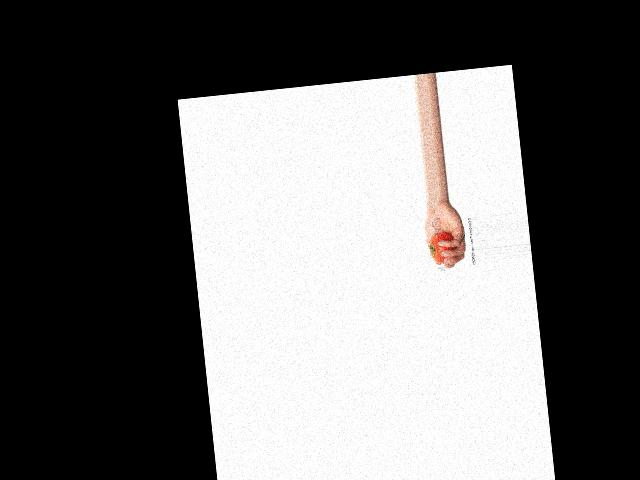tomato: (429, 232, 457, 264)
